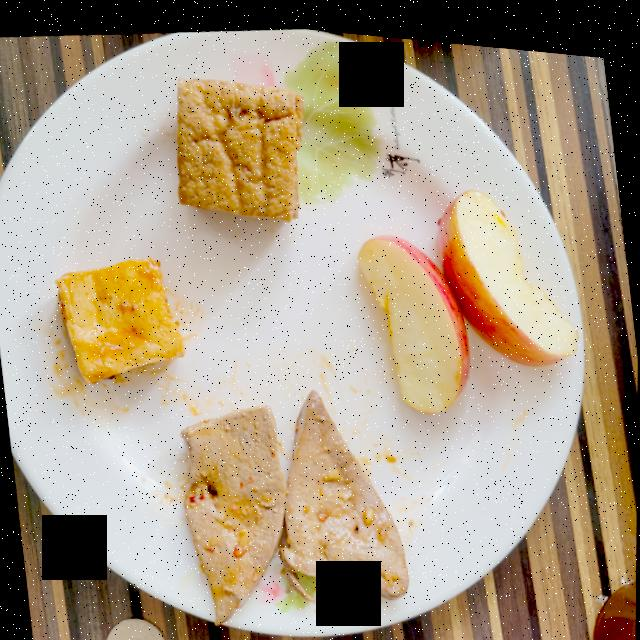apple -sliced-: (358, 180, 578, 404)
coin: (106, 616, 165, 640)
creamy tofu: (55, 255, 184, 381)
egg tofu: (176, 74, 303, 216)
pig liver: (182, 384, 409, 619)
